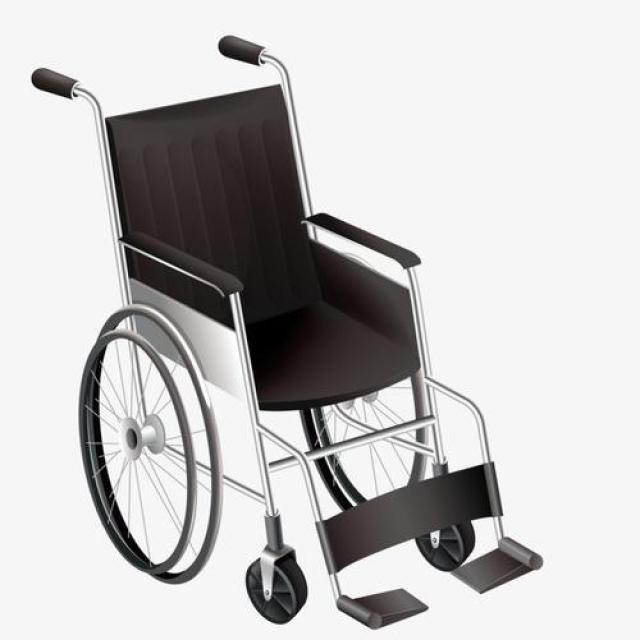wheelchairs: (21, 25, 560, 632)
